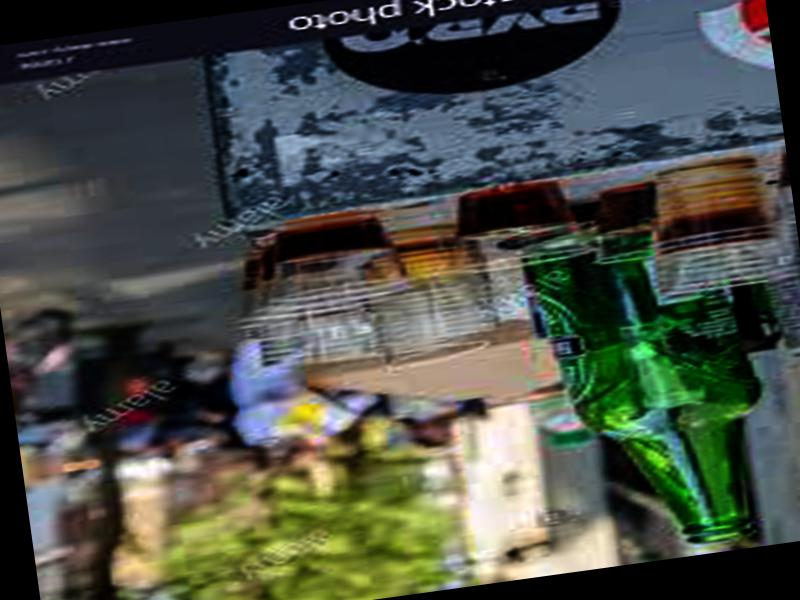Beer: (512, 192, 783, 563)
